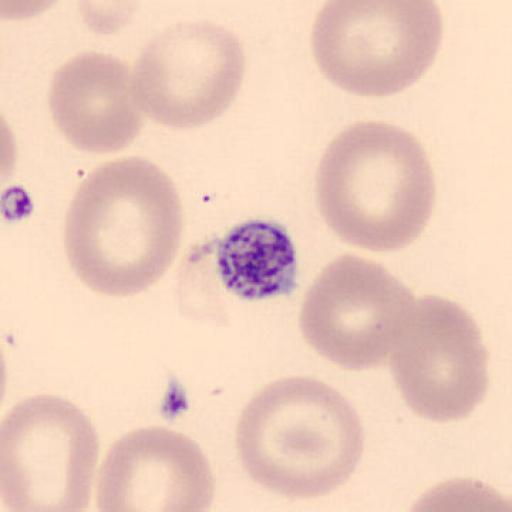Platelet: (212, 214, 301, 304)
RBC: (62, 155, 185, 298), (233, 373, 367, 500), (314, 119, 438, 255), (297, 251, 420, 372), (384, 292, 491, 425), (128, 17, 247, 133), (307, 0, 445, 99), (1, 392, 101, 512), (95, 424, 217, 512), (46, 50, 146, 156), (171, 235, 234, 331), (402, 475, 511, 512), (73, 1, 142, 37), (2, 0, 71, 23), (1, 112, 19, 188)
